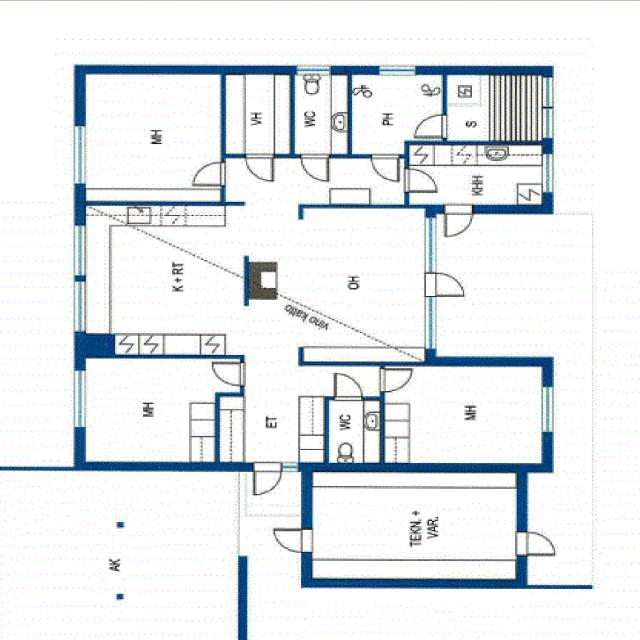door: (425, 272, 465, 296), (445, 205, 473, 238), (274, 529, 313, 552), (516, 532, 554, 555), (211, 362, 245, 386), (254, 464, 280, 495), (404, 169, 437, 193), (334, 374, 362, 401), (380, 369, 412, 392), (193, 163, 225, 186), (416, 115, 447, 138), (246, 154, 273, 180), (301, 154, 328, 180), (371, 154, 398, 180)
